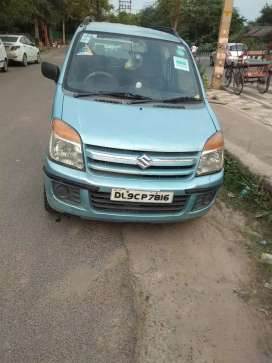license_plate: (109, 184, 175, 207)
